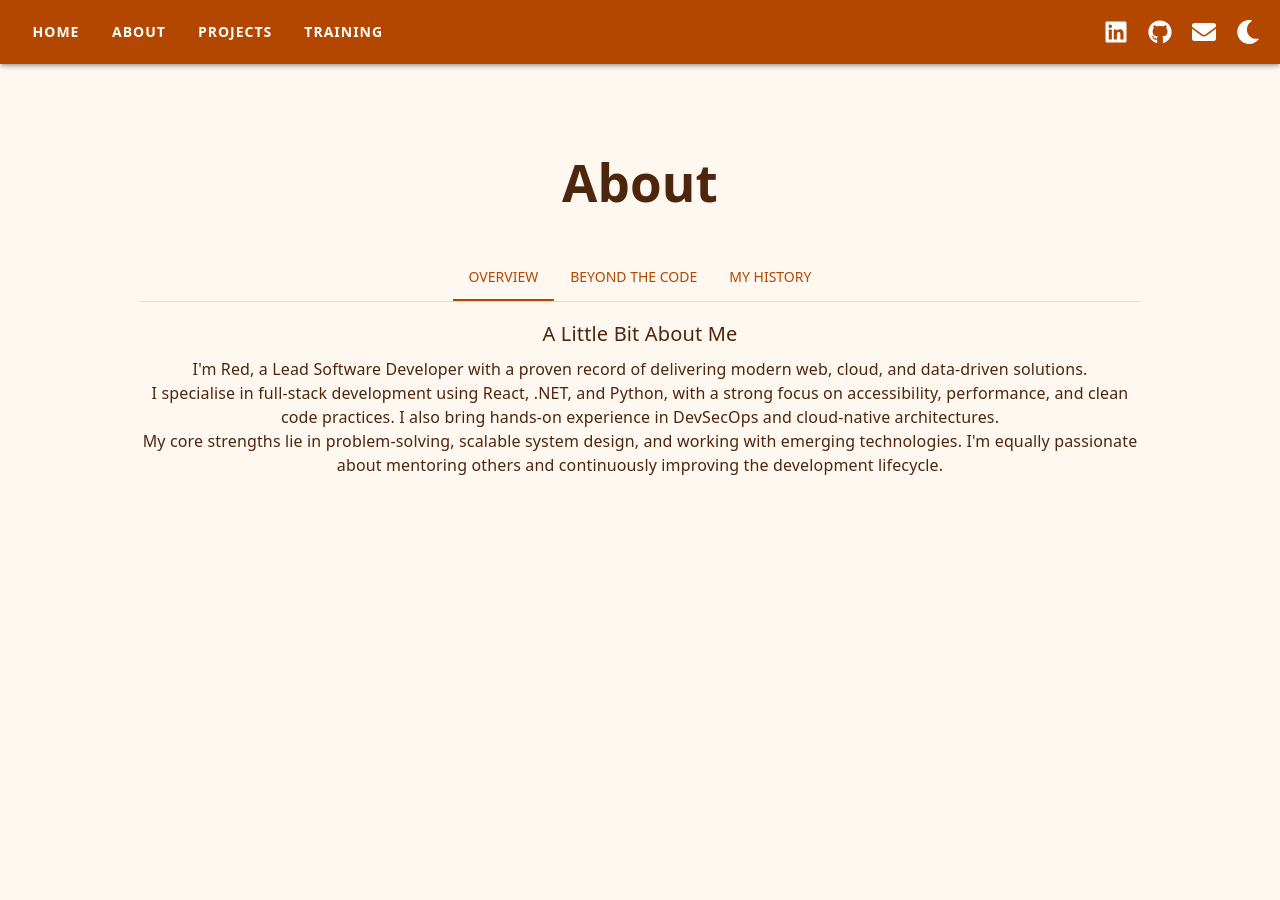
Test: App Navbar and Navigation › navigates to Projects and Training via button clicks
Note: Go to Projects
Click the button "Projects". click: [235, 32]
box: [190,14,280,50]
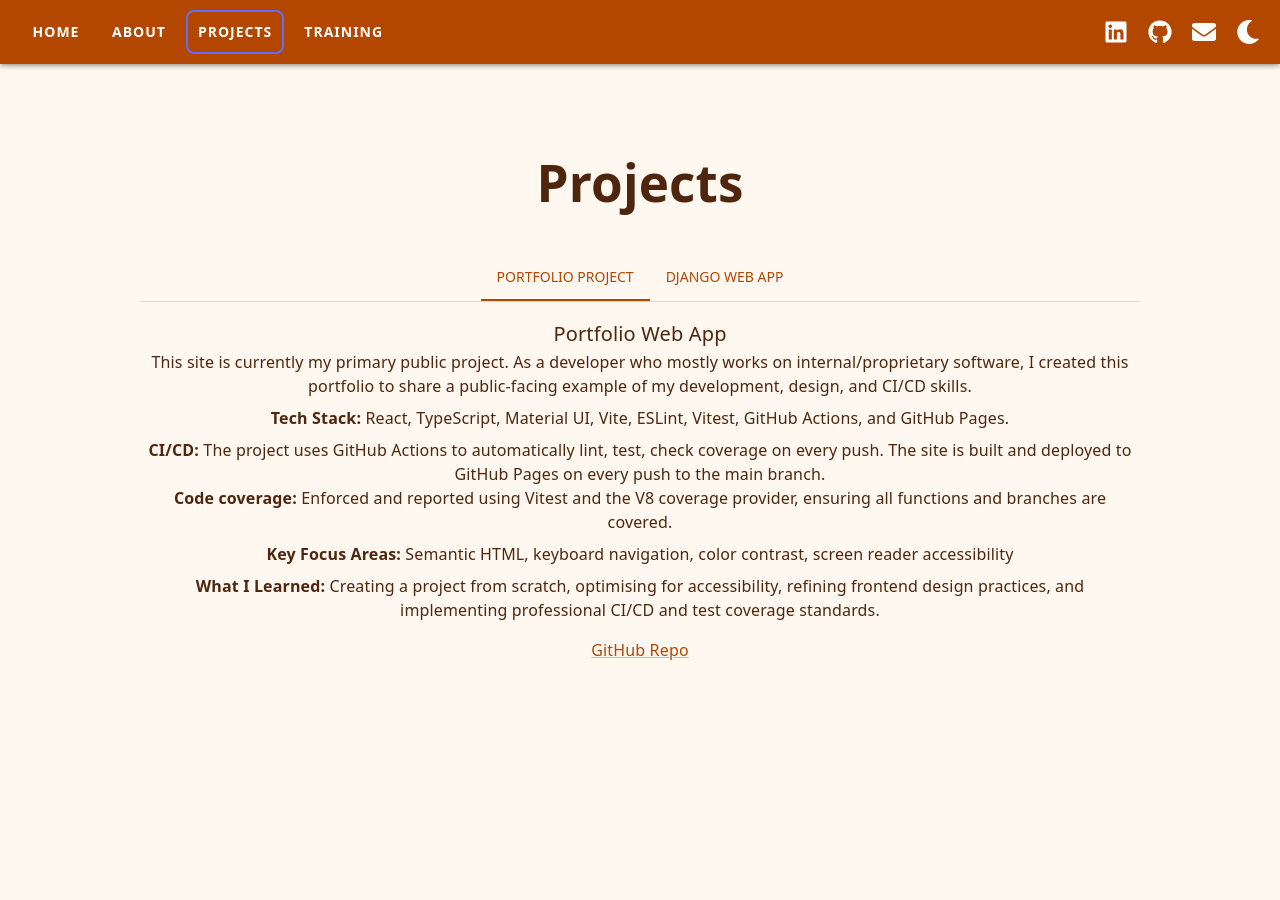
expect the heading "Projects" is shown: met, box [536,147,744,217]
expect the text "Tech Stack:" is shown: met, box [271,407,361,429]
Note: Go to Training
Click the button "Training". click: [344, 32]
box: [296,14,391,50]
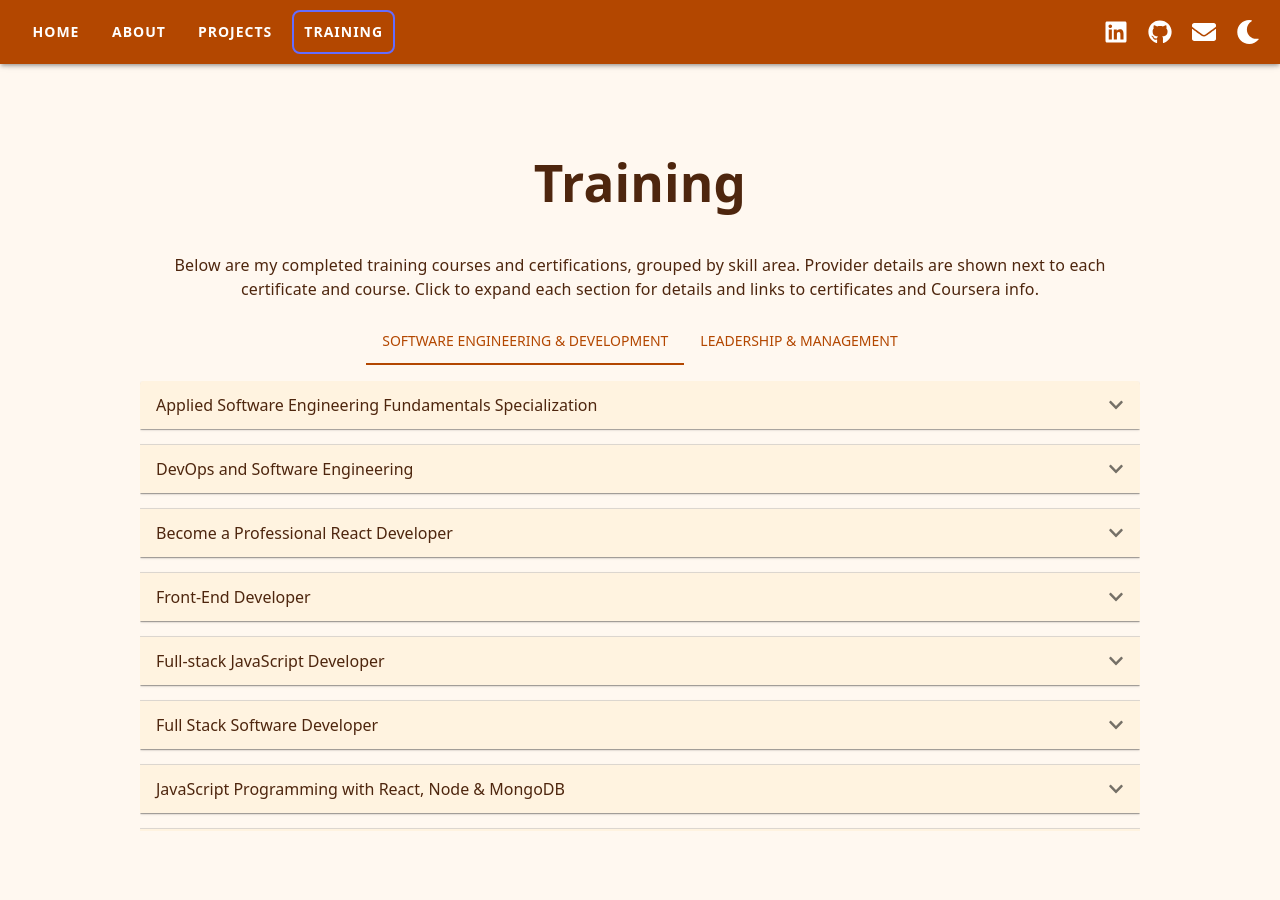
expect the heading "Training" is shown: met, box [534,147,746,217]
expect the text "completed training" is shown: met, box [174,254,1106,300]
Note: Go back to About
Click the button "About". click: [139, 32]
box: [104,14,174,50]
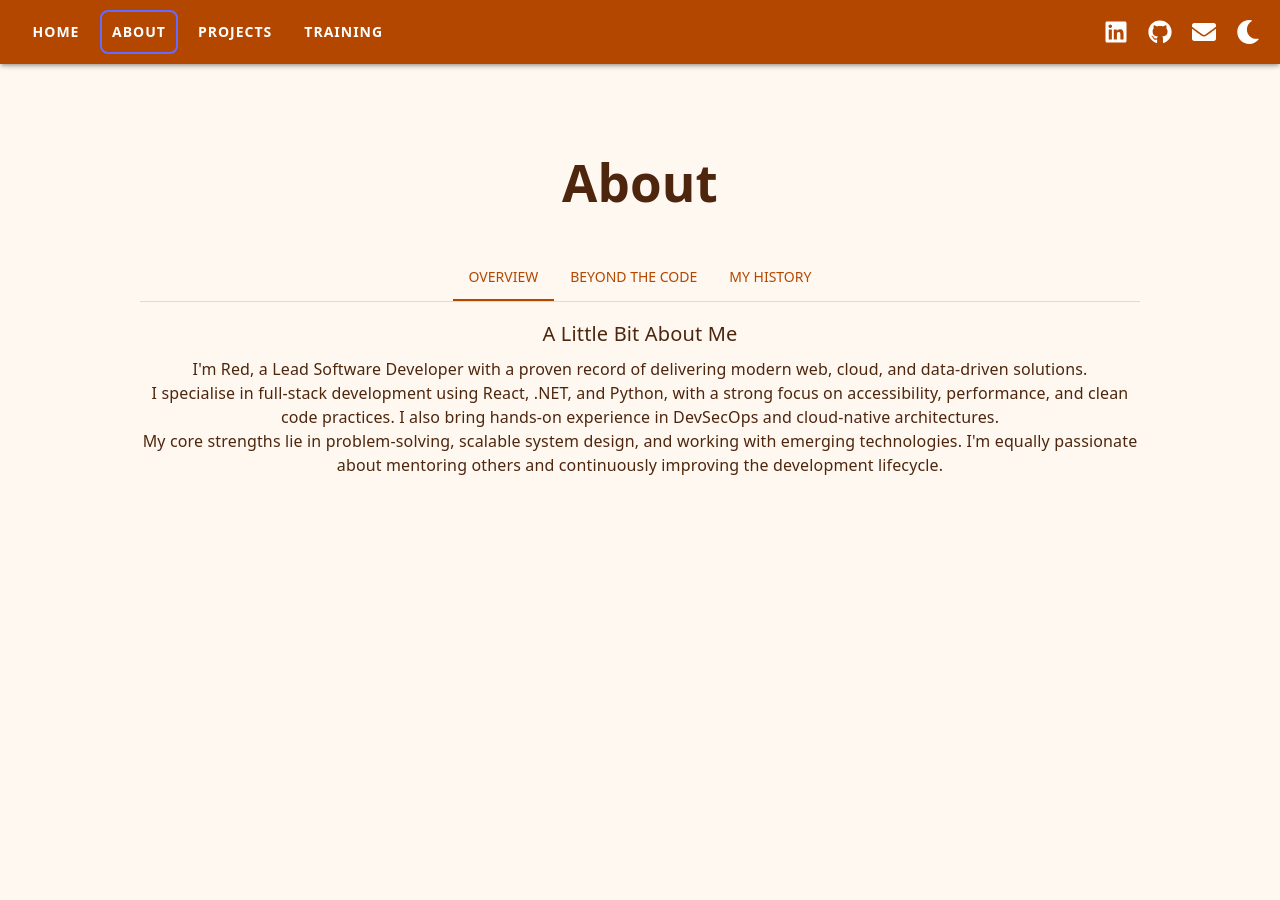
expect the heading "About" is shown: met, box [562,147,718,217]
